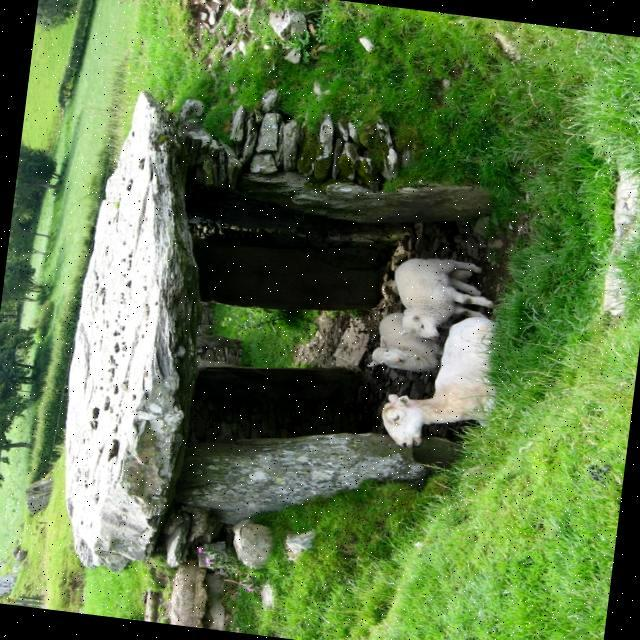sheep: (393, 257, 490, 337), (367, 311, 441, 370)
